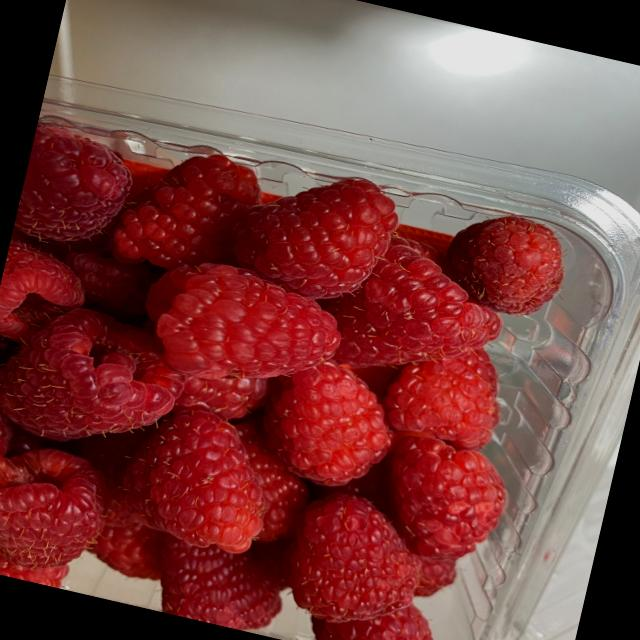raspberries: (0, 102, 599, 640)
